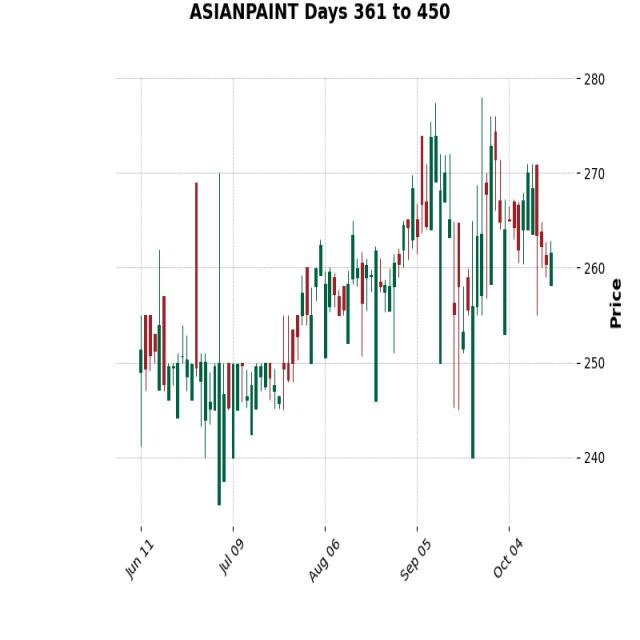Cup and Handle: (147, 159, 405, 495)
